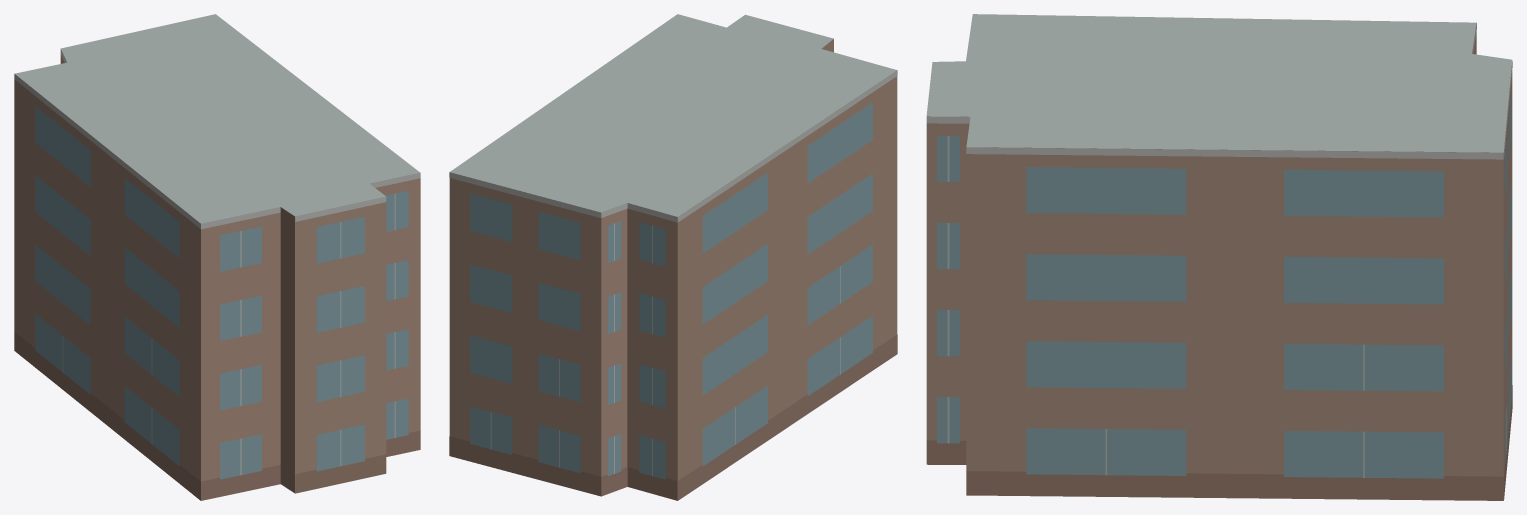
The model's file is survey-upis-33035799.glb.
3 views of the same model, side by side, from view 1: azimuth 30°, elevation 25°; view 2: azimuth 150°, elevation 25°; view 3: azimuth 270°, elevation 25° (orthographic). The views are drawn at different scales.
Visible parts, largest first — view 1: survey-upis-33035799.tmp; view 2: survey-upis-33035799.tmp; view 3: survey-upis-33035799.tmp.
Boxes of the visible parts, x1=… form: survey-upis-33035799.tmp: x1=14, y1=14, x2=420, y2=500; survey-upis-33035799.tmp: x1=449, y1=14, x2=897, y2=500; survey-upis-33035799.tmp: x1=926, y1=14, x2=1512, y2=500.
Size of the model in its own units: 10.42 by 12.2 by 18.61.
